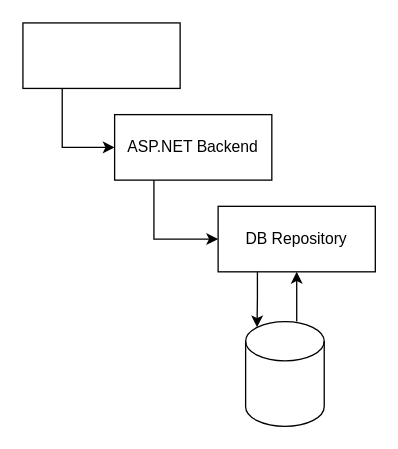
The diagram is 398 pixels wide and 449 high, and some of its shapes have lost their labels. The shapes that lost their labels are listed below. From the top down, each one's centre as x and y in pixels, then its label:
At point (101, 55): "Angular GUI".
At point (284, 373): "MongoDB".
